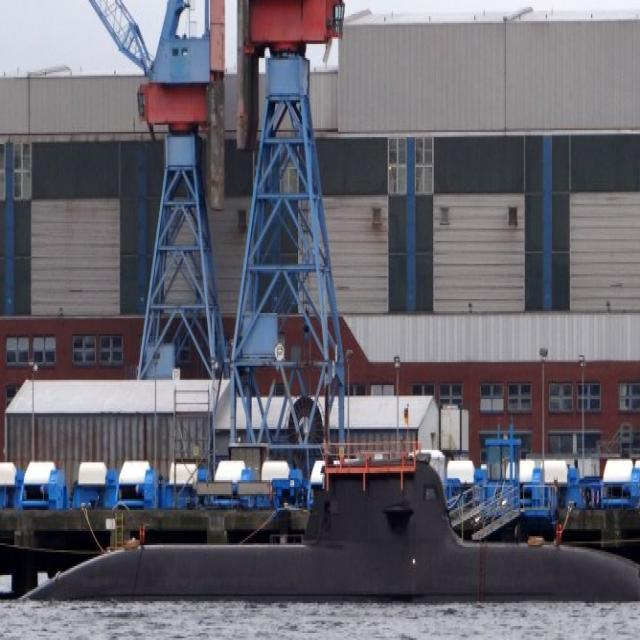submarine: (18, 460, 640, 599)
